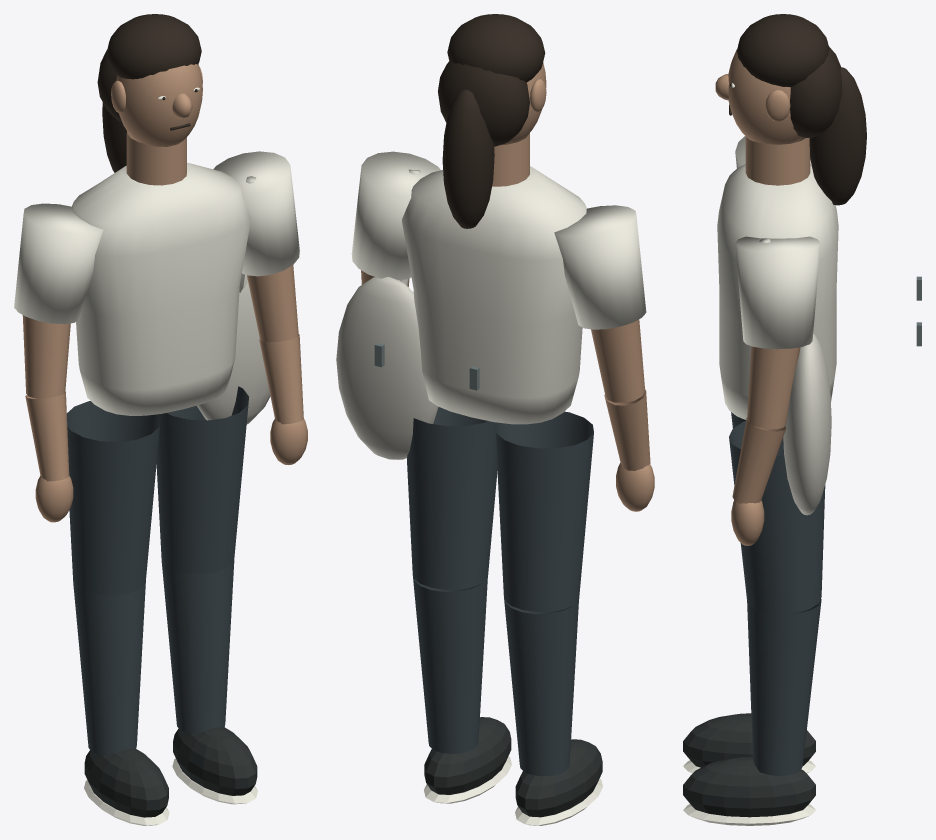
Rendered from linxia.glb.
3 views of the same model, side by side, from view 1: azimuth 30°, elevation 25°; view 2: azimuth 150°, elevation 25°; view 3: azimuth 270°, elevation 25° (orthographic). The views are drawn at different scales.
Visible parts, largest first — view 1: linxia_body_shirt, linxia_legL_pants, linxia_legR_pants, linxia_armL_shirt, linxia_body_skin, linxia_armL_skin, linxia_armR_skin, linxia_armR_shirt, linxia_body_hair, linxia_legL_rubber, linxia_legR_rubber, linxia_details_linen (+3 smaller); view 2: linxia_body_shirt, linxia_legL_pants, linxia_legR_pants, linxia_details_linen, linxia_details_hair, linxia_armL_shirt, linxia_armL_skin, linxia_armR_shirt, linxia_body_hair, linxia_legR_rubber, linxia_legL_rubber, linxia_body_skin (+2 smaller); view 3: linxia_legR_pants, linxia_body_shirt, linxia_armR_shirt, linxia_details_hair, linxia_armR_skin, linxia_body_skin, linxia_details_linen, linxia_legR_rubber, linxia_body_hair, linxia_legL_rubber, linxia_legR_white.
Boxes of the visible parts, left/top/right/bottom form: linxia_body_shirt: left=72, top=162, right=251, bottom=415; linxia_legL_pants: left=67, top=401, right=160, bottom=755; linxia_legR_pants: left=156, top=386, right=248, bottom=734; linxia_armL_shirt: left=14, top=203, right=103, bottom=324; linxia_body_skin: left=111, top=64, right=202, bottom=185; linxia_armL_skin: left=22, top=315, right=73, bottom=522; linxia_armR_skin: left=247, top=265, right=307, bottom=464; linxia_armR_shirt: left=213, top=151, right=299, bottom=276; linxia_body_hair: left=107, top=14, right=201, bottom=130; linxia_legL_rubber: left=84, top=748, right=168, bottom=817; linxia_legR_rubber: left=173, top=727, right=257, bottom=795; linxia_details_linen: left=197, top=176, right=270, bottom=424; linxia_body_shirt: left=402, top=166, right=586, bottom=424; linxia_legL_pants: left=495, top=411, right=593, bottom=776; linxia_legR_pants: left=406, top=407, right=497, bottom=753; linxia_details_linen: left=336, top=169, right=438, bottom=459; linxia_details_hair: left=438, top=61, right=529, bottom=228; linxia_armL_shirt: left=554, top=205, right=646, bottom=329; linxia_armL_skin: left=591, top=319, right=654, bottom=511; linxia_armR_shirt: left=351, top=151, right=440, bottom=279; linxia_body_hair: left=447, top=14, right=545, bottom=82; linxia_legR_rubber: left=424, top=717, right=511, bottom=794; linxia_legL_rubber: left=515, top=739, right=602, bottom=817; linxia_body_skin: left=492, top=62, right=546, bottom=186; linxia_legR_pants: left=729, top=421, right=825, bottom=775; linxia_body_shirt: left=717, top=164, right=838, bottom=419; linxia_armR_shirt: left=735, top=236, right=820, bottom=349; linxia_details_hair: left=790, top=46, right=866, bottom=205; linxia_armR_skin: left=731, top=346, right=800, bottom=545; linxia_body_skin: left=715, top=49, right=810, bottom=185; linxia_details_linen: left=759, top=238, right=831, bottom=515; linxia_legR_rubber: left=683, top=757, right=815, bottom=817; linxia_body_hair: left=729, top=14, right=829, bottom=115; linxia_legL_rubber: left=683, top=713, right=815, bottom=767; linxia_legR_white: left=683, top=804, right=815, bottom=825.
Bounding box in the file's own units: 0.7304 × 1.91 × 0.531.
